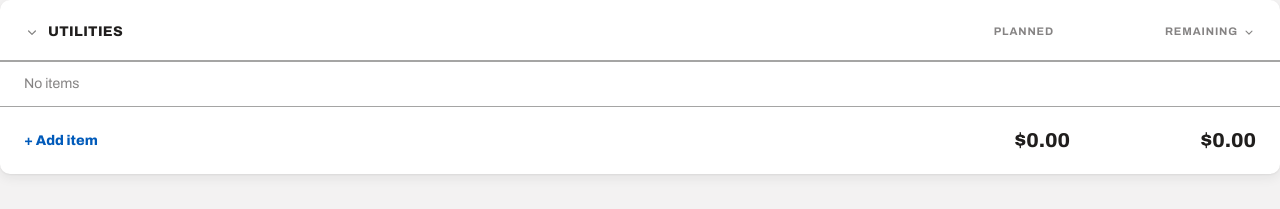
Test: BudgetGroupCard draft re-sync › issues no update when the editor is opened and blurred without a change
Click the heading "Utilities". click: (86, 32)
box: [48,22,123,42]
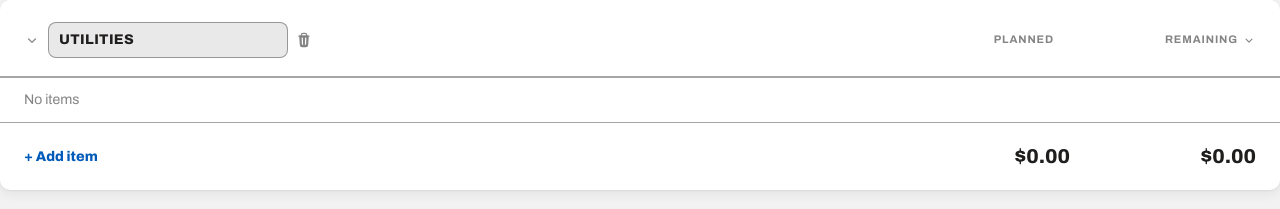
Leave the field, box [48,22,288,58]
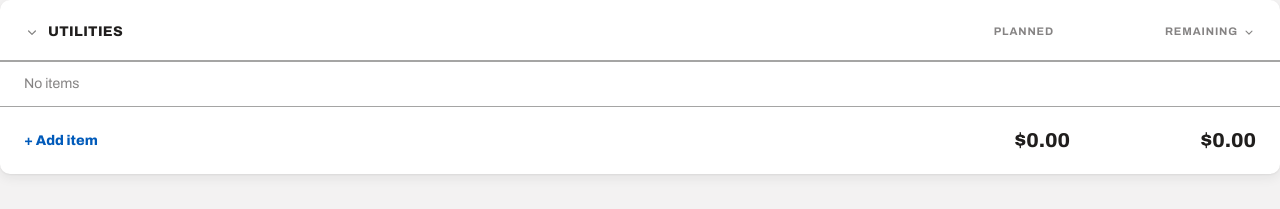
Check: the heading "Utilities" is shown, box [48,22,123,42]
